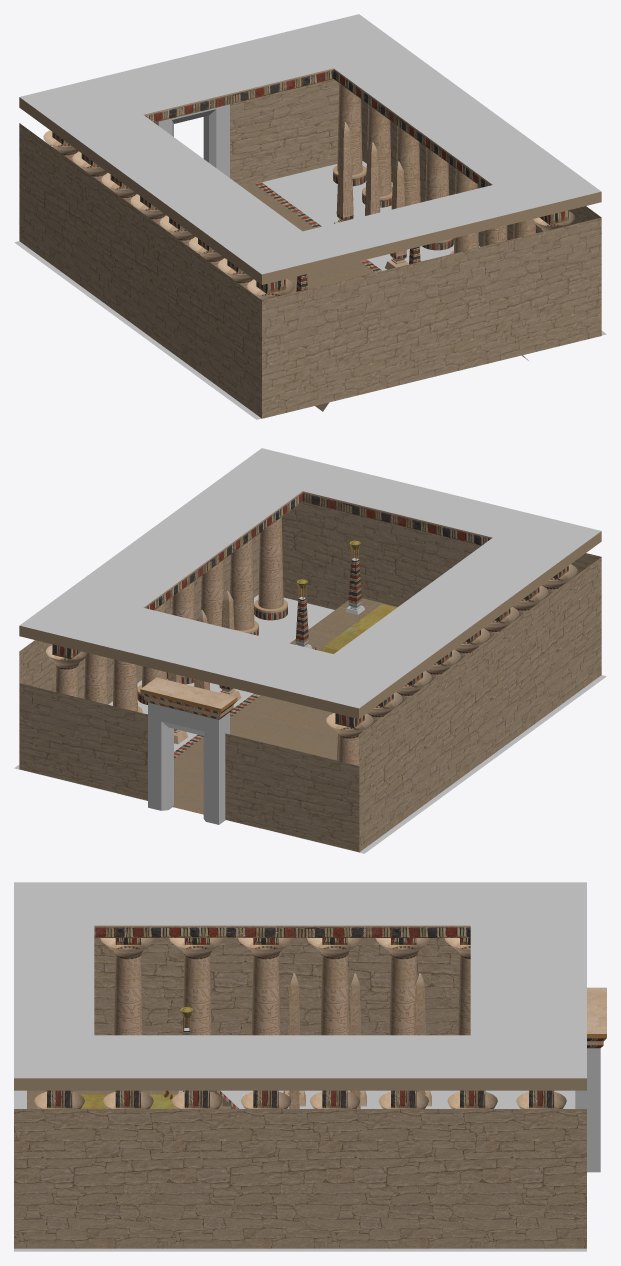
Rendered from EgyptMain28May.fbx.
The picture shows the model from 3 angles, top to bottom: view 1: azimuth 30°, elevation 25°; view 2: azimuth 150°, elevation 25°; view 3: azimuth 270°, elevation 25°; orthographic projection. The views are drawn at different scales.
Parts seen in each view (by area): view 1: EgyptMain28May; view 2: EgyptMain28May; view 3: EgyptMain28May.
Part boxes in pixels (left/top/right/bottom): EgyptMain28May: left=14, top=14, right=606, bottom=419; EgyptMain28May: left=14, top=448, right=606, bottom=853; EgyptMain28May: left=14, top=882, right=606, bottom=1251.
Size of the model in its own units: 7541 by 3239 by 9352.
